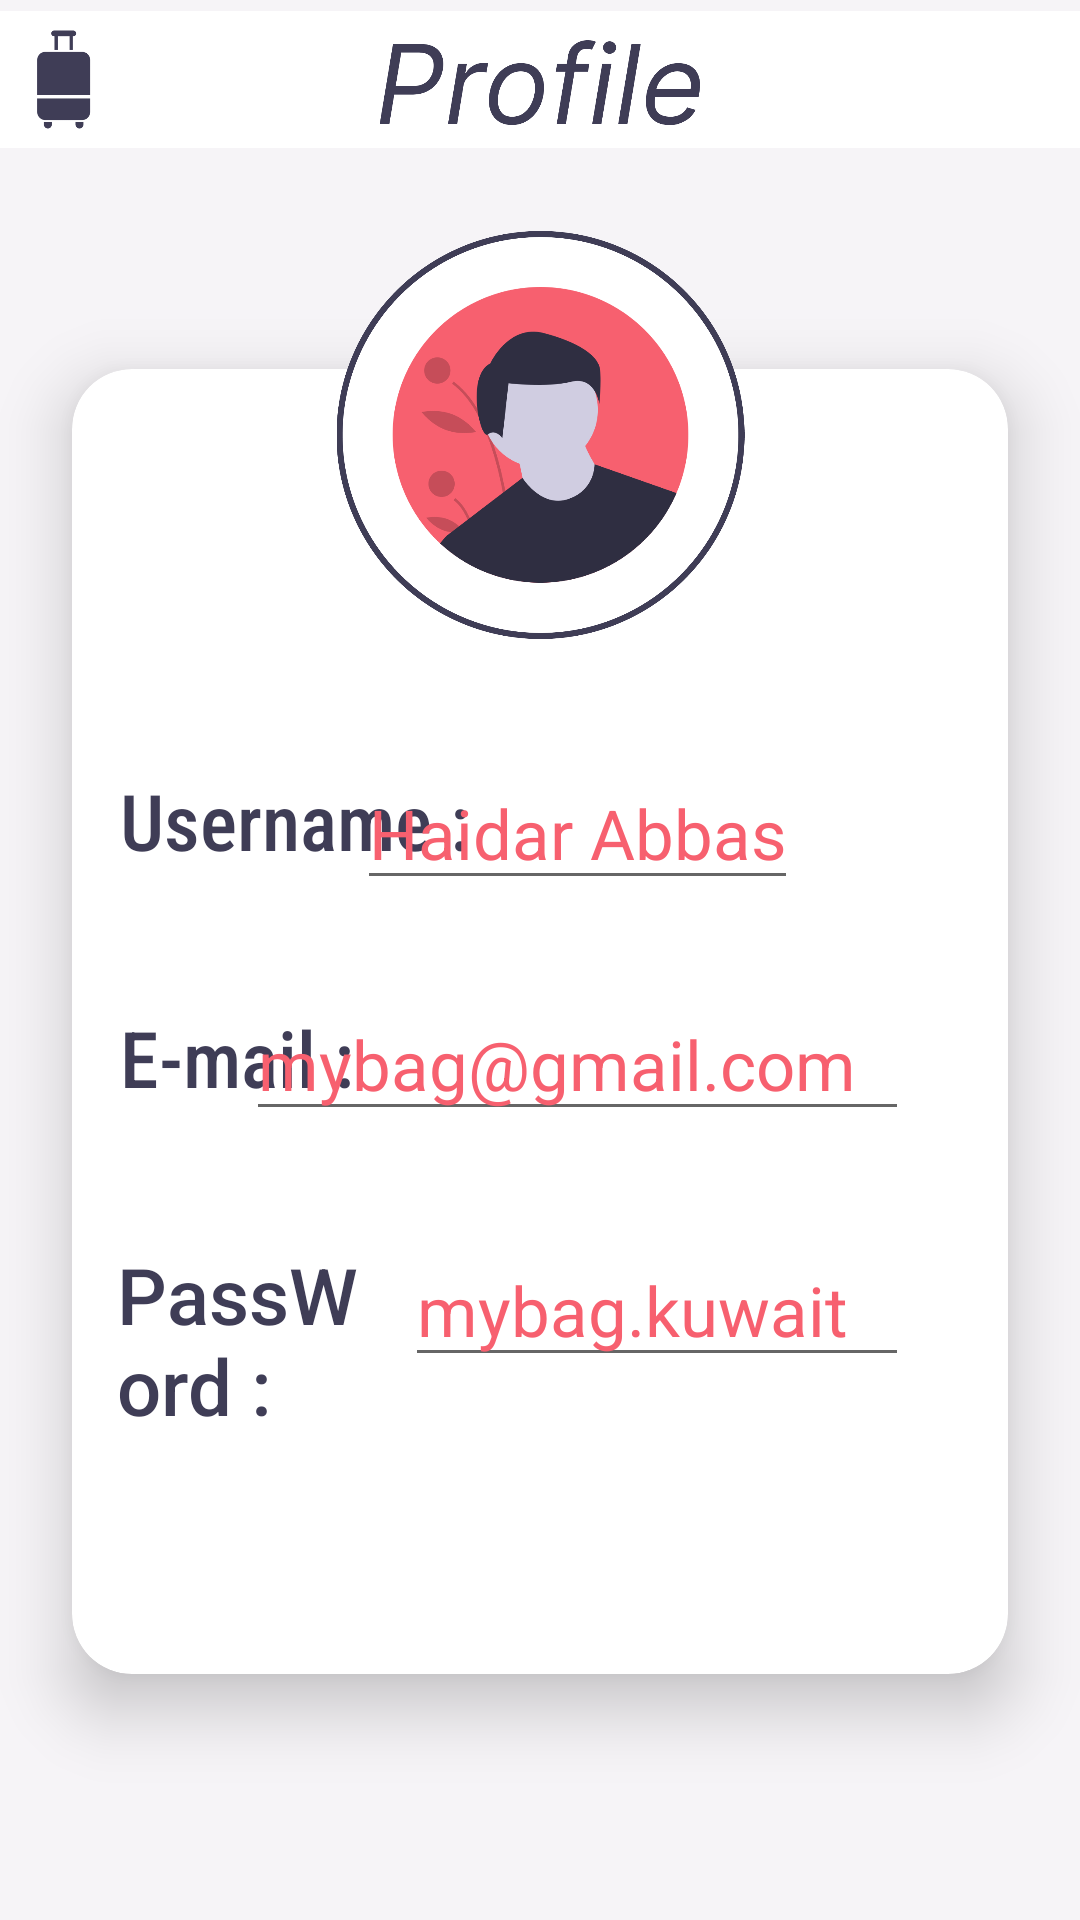

Point at icon controls on the screen. Image size 1080×1920, points as point (x, y).
this user: point (540, 435)
